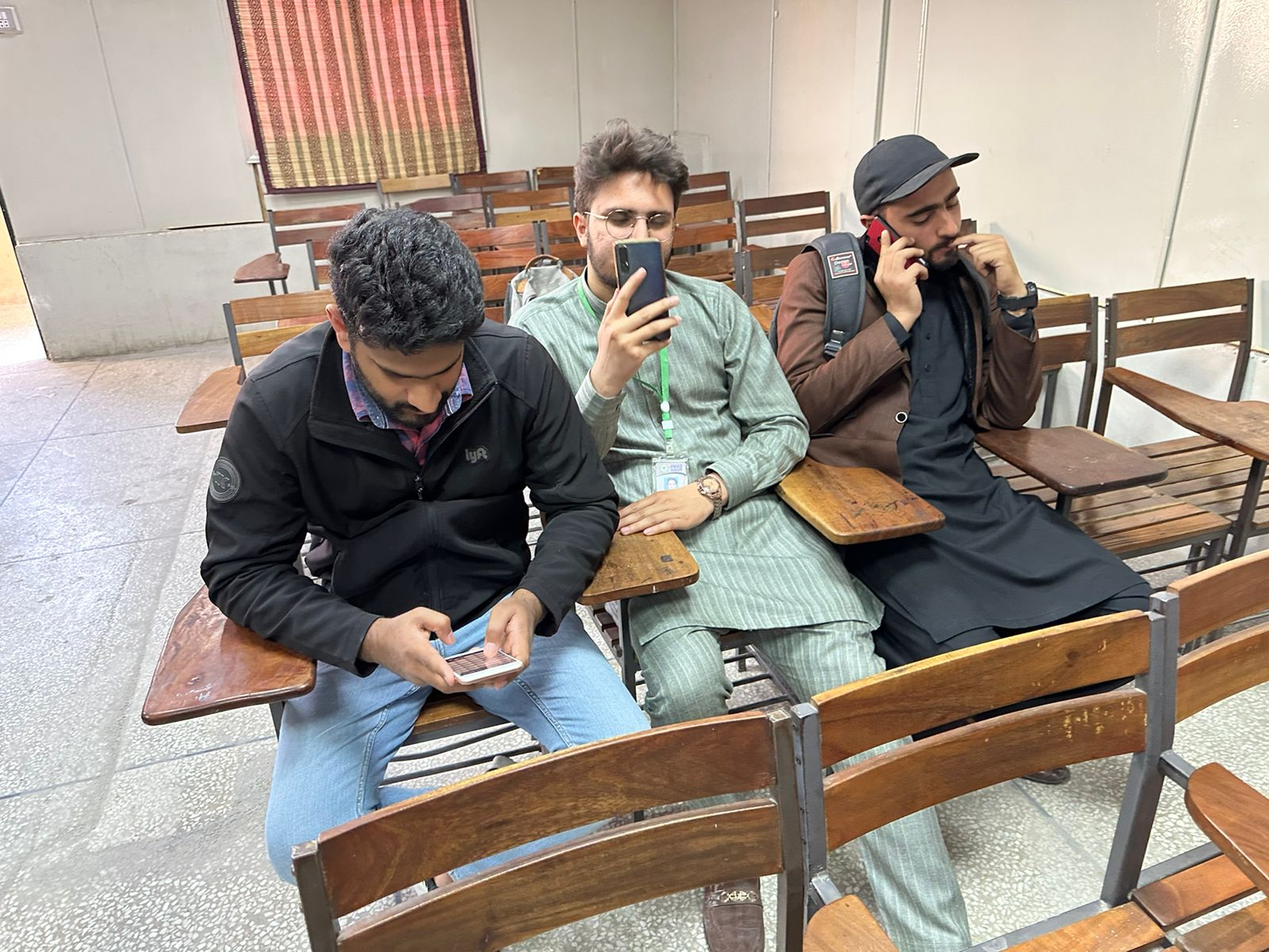phone: (380, 587, 544, 694), (601, 238, 682, 364), (856, 213, 931, 291)
